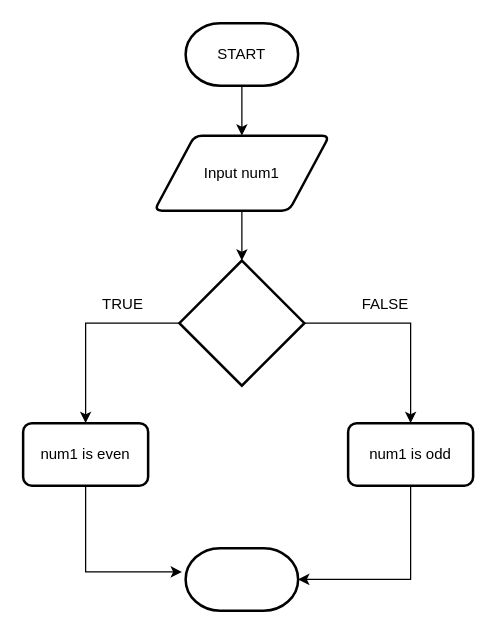
The diagram is 495 pixels wide and 633 high, and some of its shapes have lost their labels. The box of each missing label's shape, as (x1, y1, x2, y2) in pixels:
END: (184, 546, 299, 611)
num1 %2 = 0: (178, 259, 305, 386)
